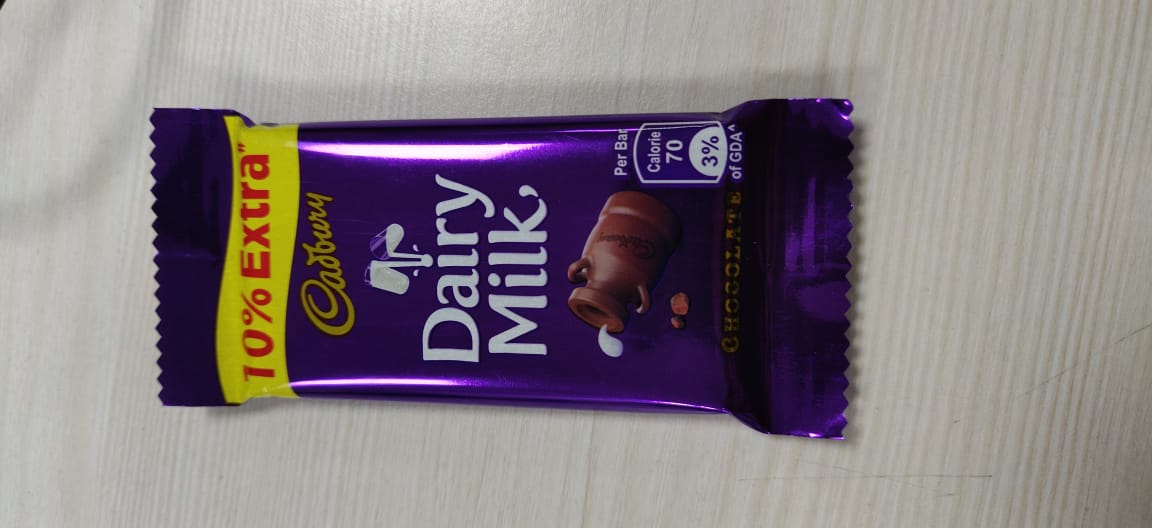dairy milk: (140, 88, 877, 460)
